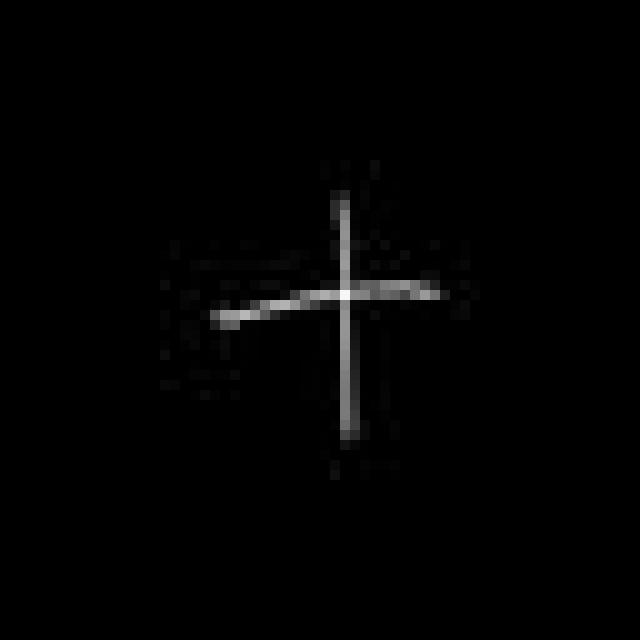10 -ten-: (208, 184, 439, 454)
